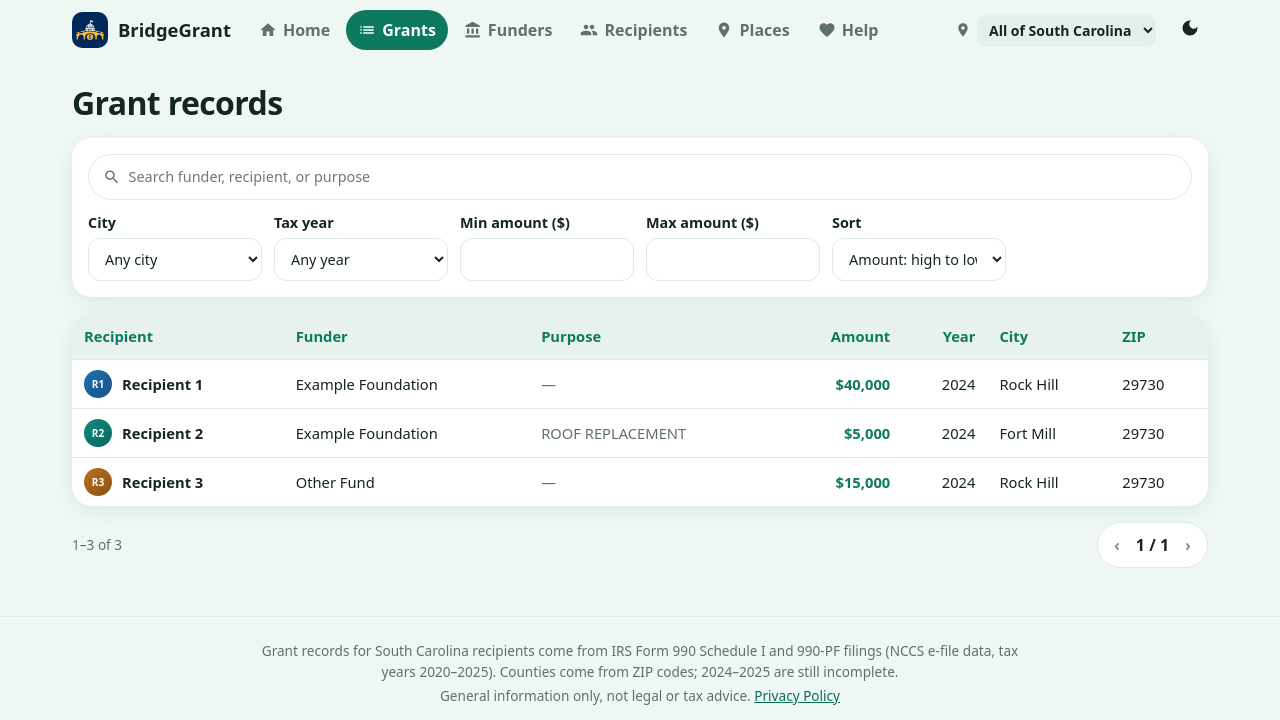
BridgeGrant website › grant list searches purpose and opens details
expect the text "Recipient 1" is shown: met, box [122,373,203,395]
expect the text "1–3 of 3" is shown: met, box [72,535,122,555]
Type "roof" into the search field with placeholder "Search funder, recipient, or purpose".
click(653, 177); type("roof")  # box [129,155,1177,199]
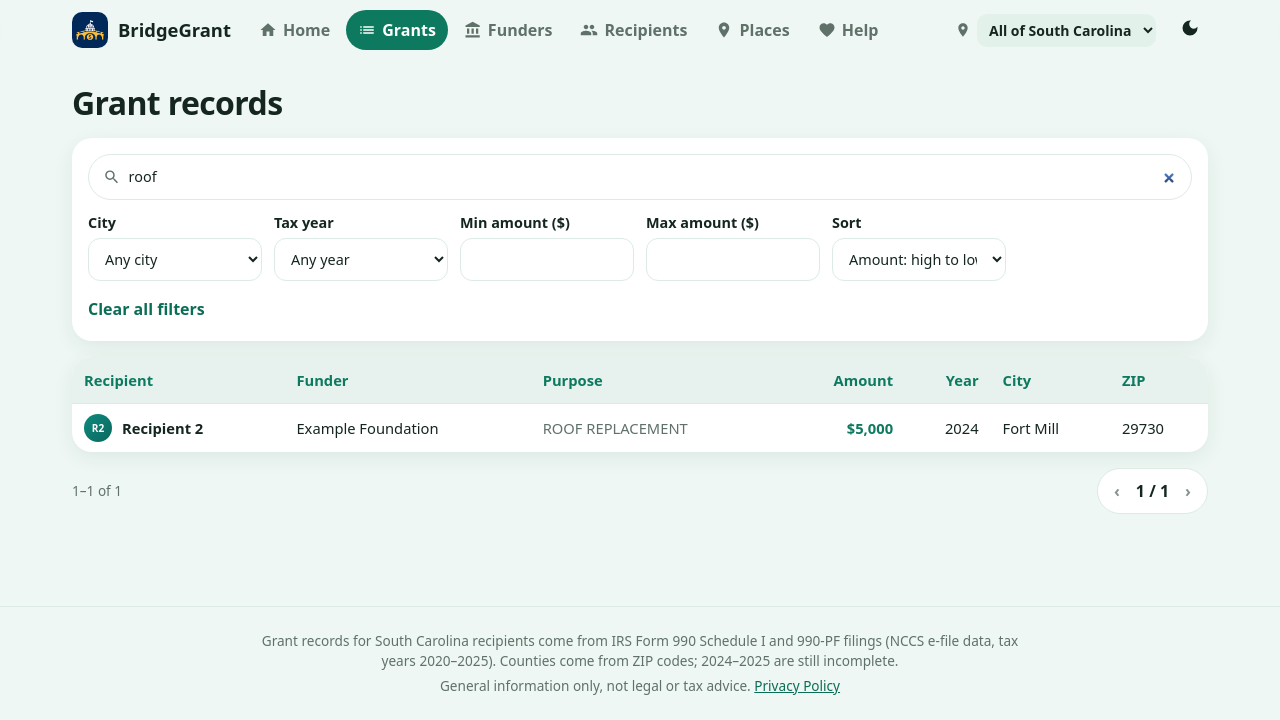
expect the link "Recipient 1" is gone: met
Click the text "Recipient 2".
click(163, 428)  # box [122,417,203,439]
(page scrolled)
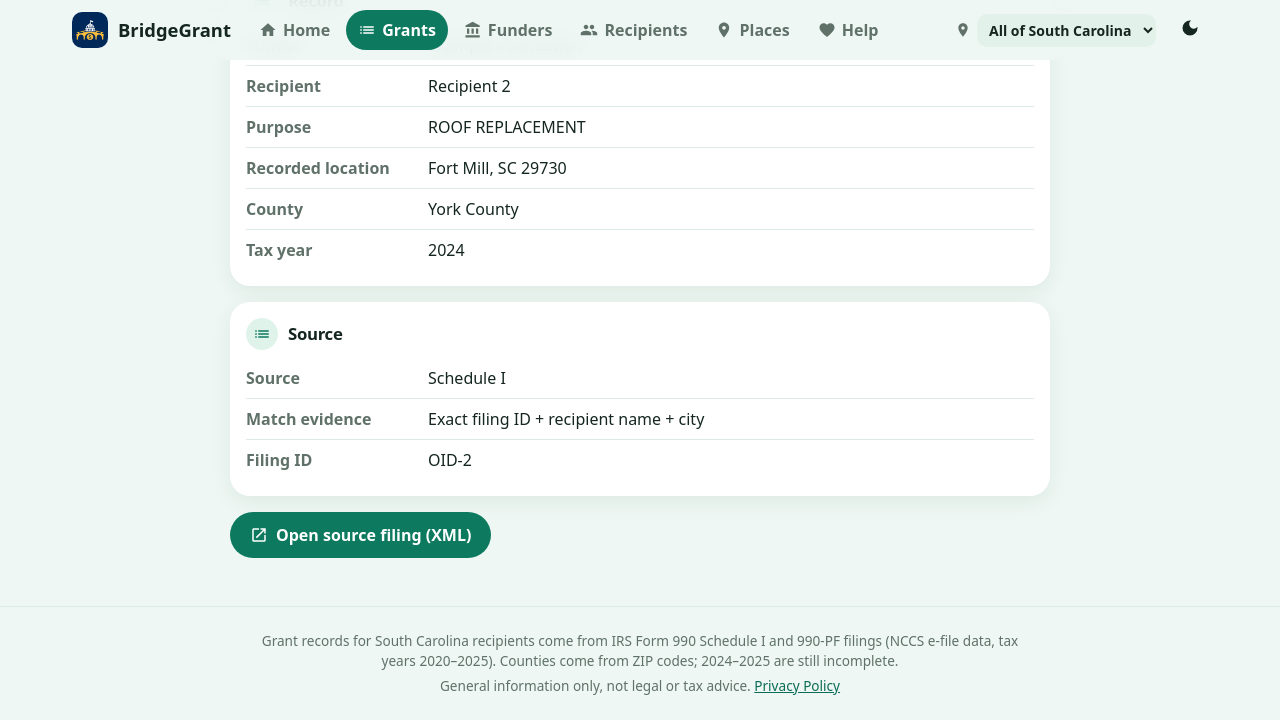
expect the text "ROOF REPLACEMENT" is shown: met, box [428,116,586,138]
expect the text "Filing ID" is shown: met, box [246,449,312,471]
